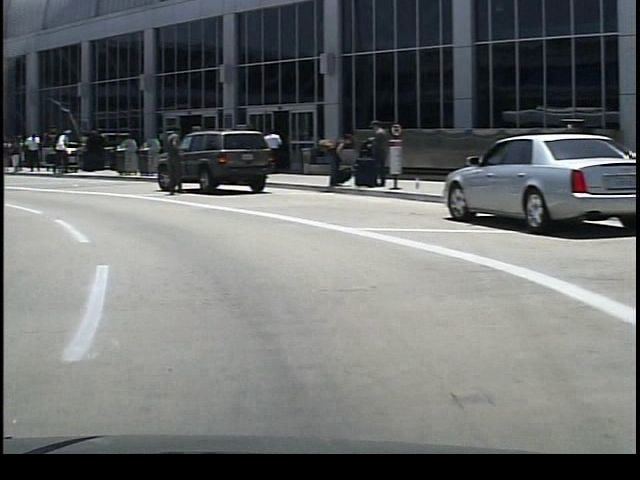person: (349, 117, 389, 191), (154, 116, 183, 202), (318, 127, 349, 189), (256, 121, 282, 179), (45, 125, 73, 177), (22, 129, 41, 177)
